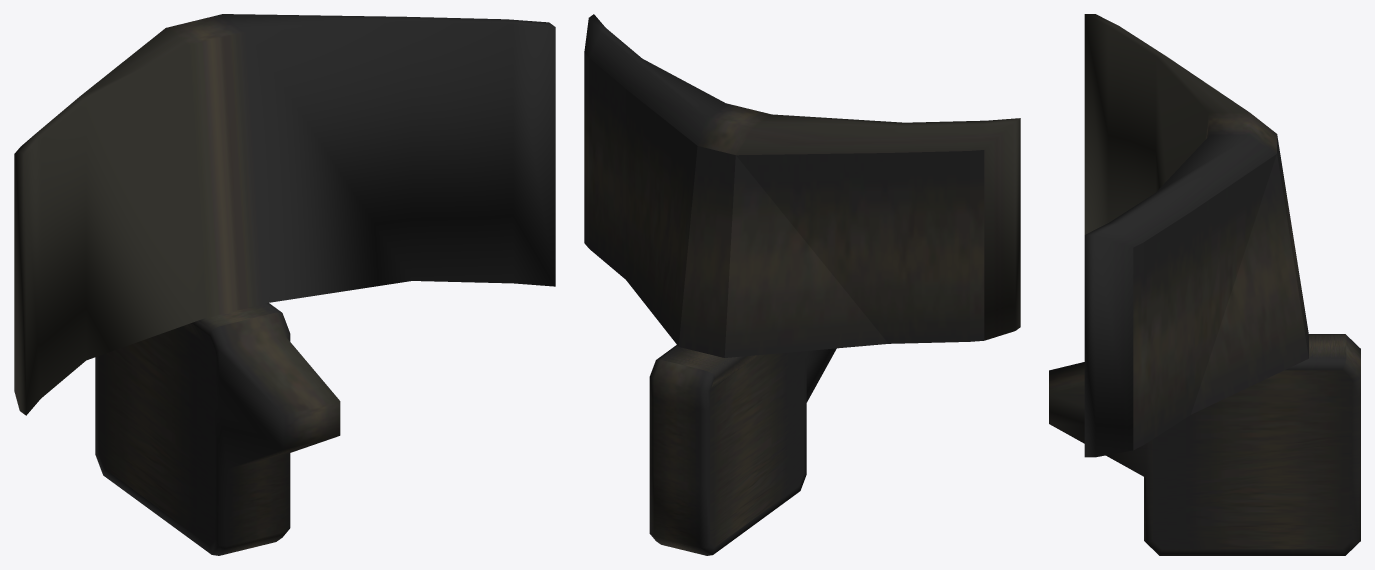
Rendered from OS_Hub_Wheel_Upper.obj.
3 renders of one model, left to right at view 1: azimuth 30°, elevation 25°; view 2: azimuth 150°, elevation 25°; view 3: azimuth 270°, elevation 25°, orthographic. The views are drawn at different scales.
Visible parts, largest first — view 1: Spring_Upper_Torus.002; view 2: Spring_Upper_Torus.002; view 3: Spring_Upper_Torus.002.
Part boxes in pixels (x1,y1,x2,y2): Spring_Upper_Torus.002: [14, 14, 555, 555]; Spring_Upper_Torus.002: [584, 14, 1020, 555]; Spring_Upper_Torus.002: [1049, 14, 1360, 555].
Bounding box in the file's own units: 2.2 × 1.97 × 1.31.
